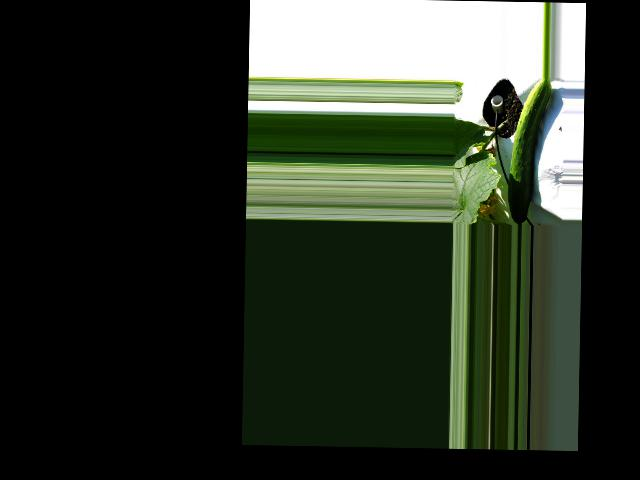cucumber: (507, 76, 551, 225)
